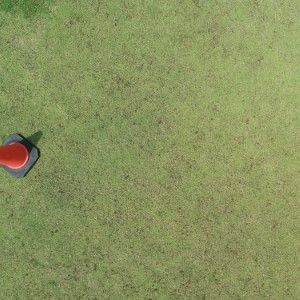traffic cone: (1, 133, 40, 179)
